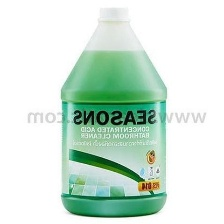cleaning_solution: (57, 3, 169, 221)
